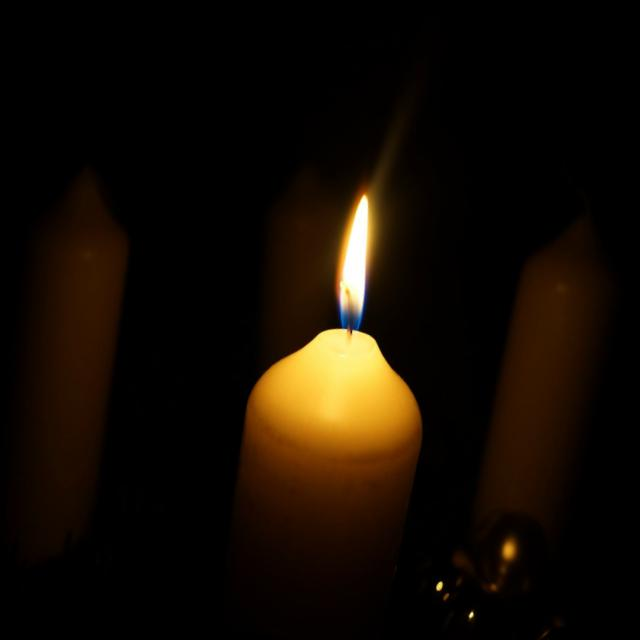Fire_Save: (206, 176, 463, 640)
